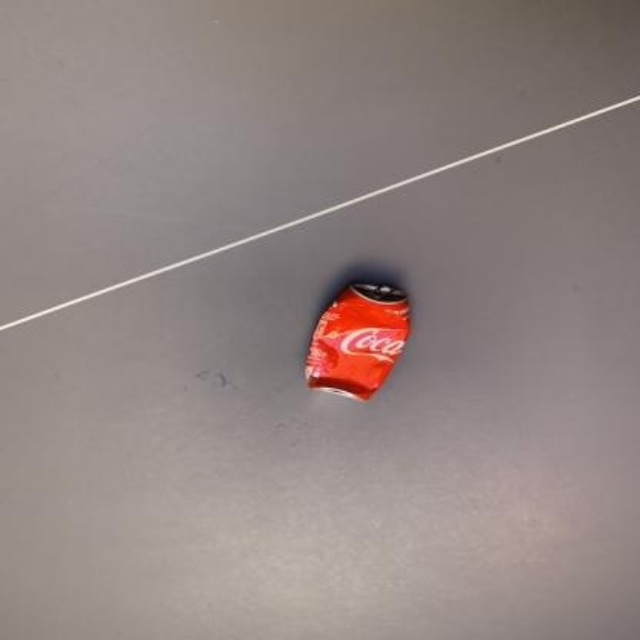trash: (305, 283, 408, 398)
